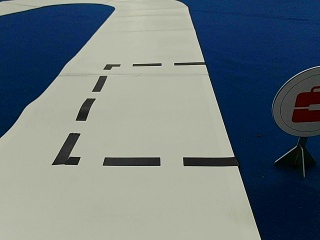company: (272, 67, 318, 134)
